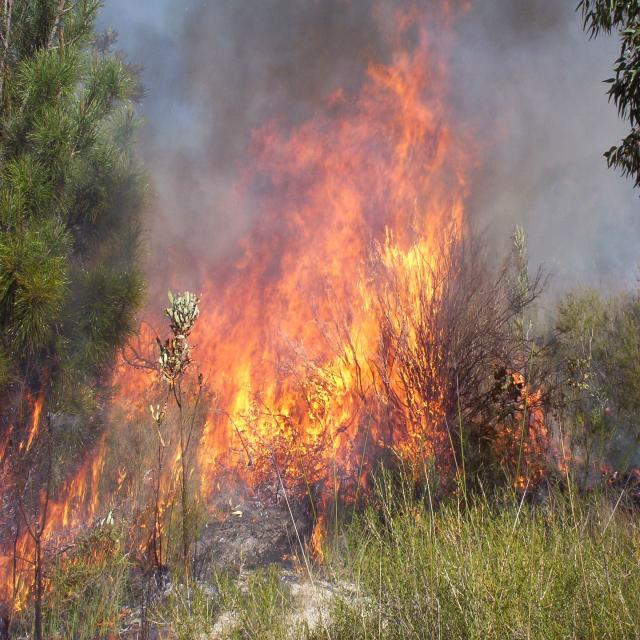Fire: (220, 79, 546, 482), (9, 281, 220, 594)
Smoke: (15, 0, 606, 272)
